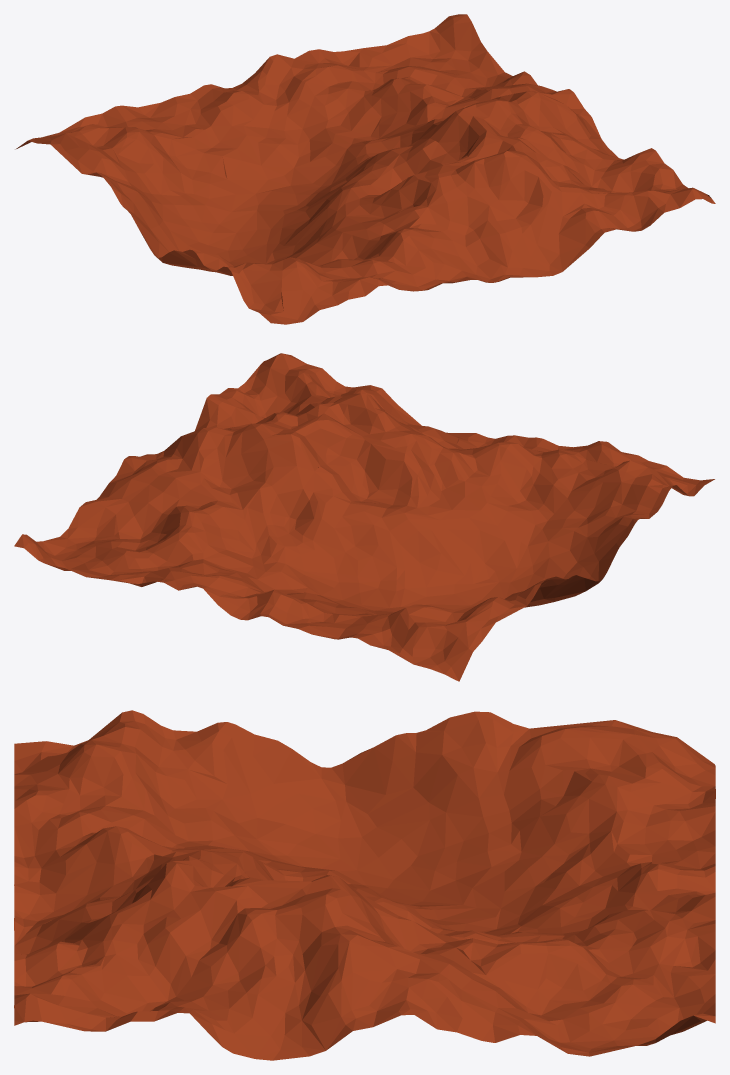
File: Mars.glb
3 views of the same model, one above another, from view 1: azimuth 30°, elevation 25°; view 2: azimuth 150°, elevation 25°; view 3: azimuth 270°, elevation 25° (orthographic). The views are drawn at different scales.
Visible parts, largest first — view 1: Landscape; view 2: Landscape; view 3: Landscape.
Part boxes in pixels (x1,y1,x2,y2): Landscape: (15, 14, 715, 324); Landscape: (14, 353, 714, 681); Landscape: (14, 710, 715, 1060).
Bounding box in the file's own units: 200 × 47.04 × 200.
